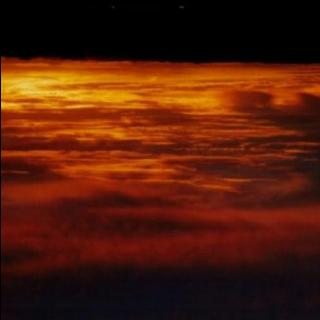Altostratus: (0, 62, 320, 320)
